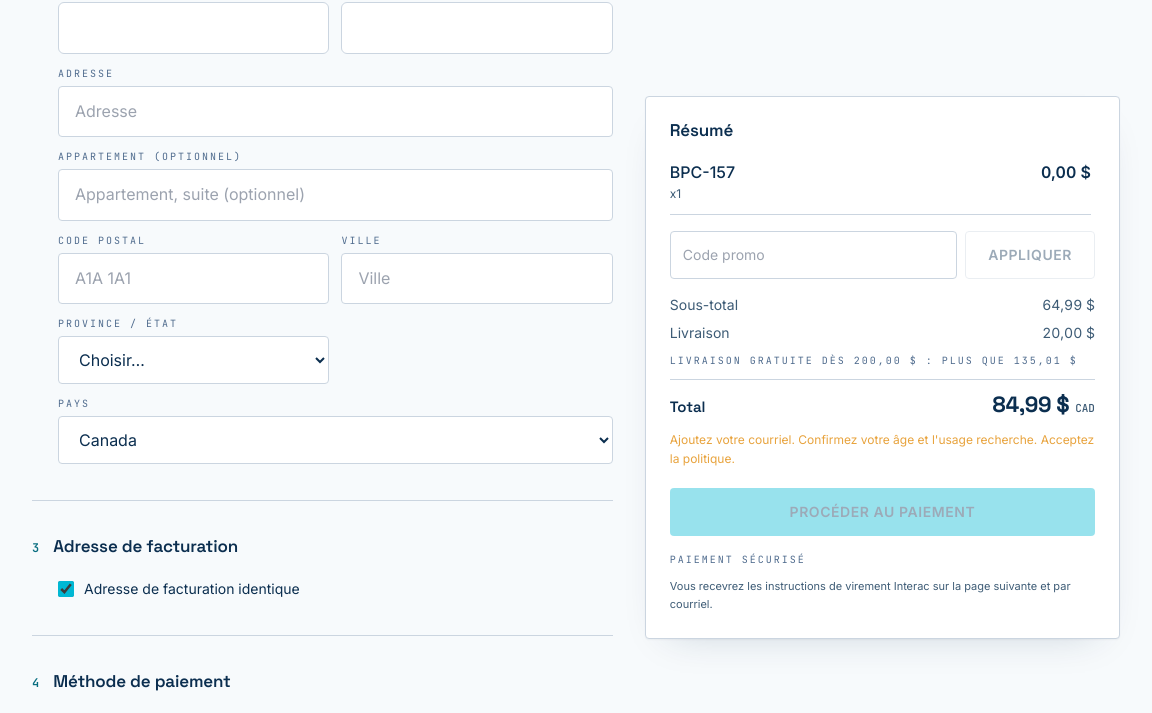
Test case: n écrase pas une province déjà choisie
(page scrolled)
Select "ON : Ontario" in the dropdown with test id "shipping-province" at (194, 360), box [58,336,329,384]
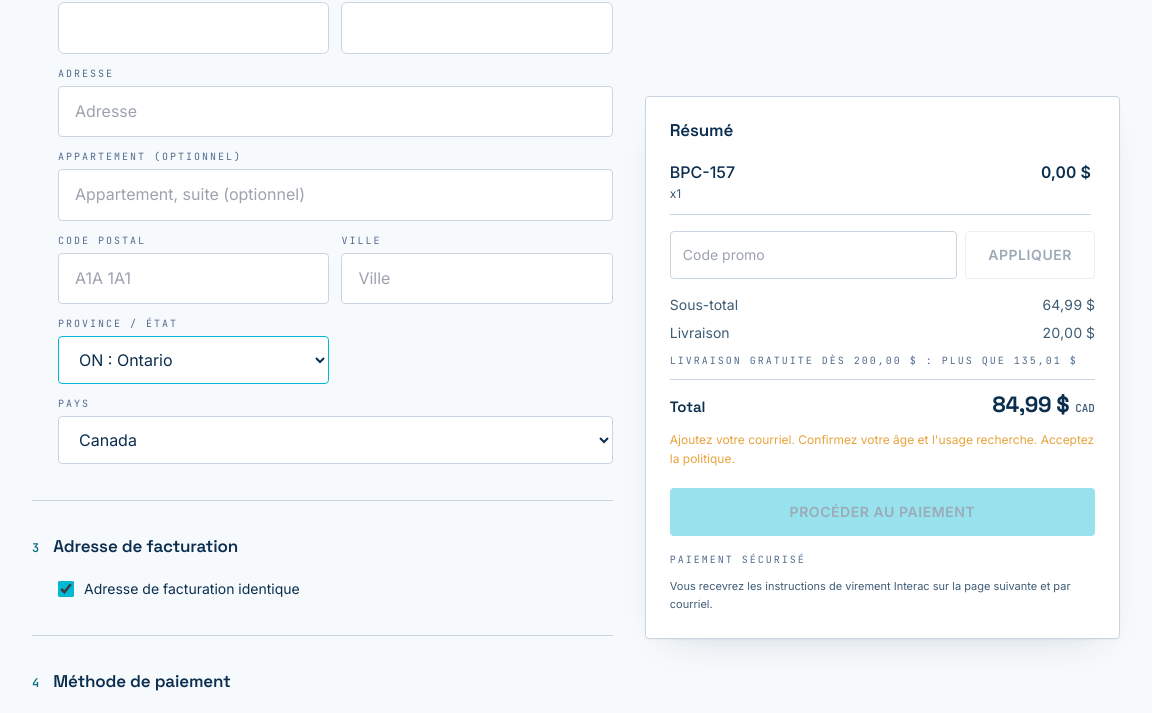
Type "H2X1Y4" into the field with test id "shipping-postal" at (194, 279), box [58,253,329,304]
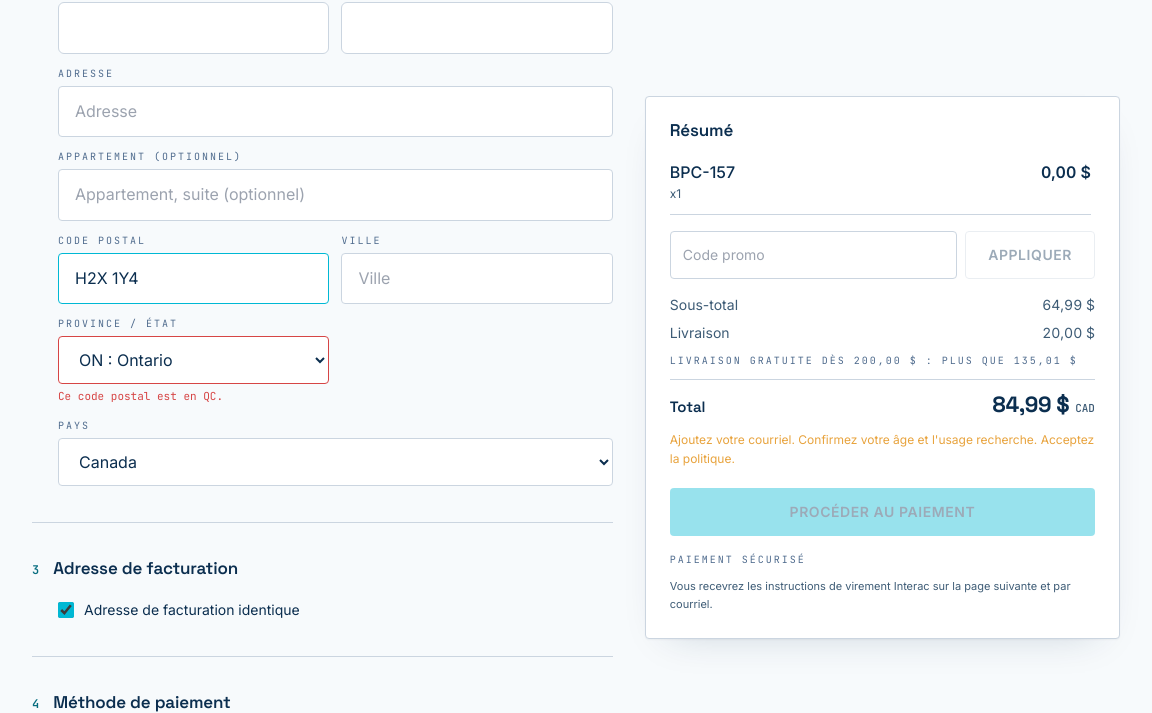
Now the text with test id "shipping-province-desaccord" shows "QC", box [58,389,223,403]
